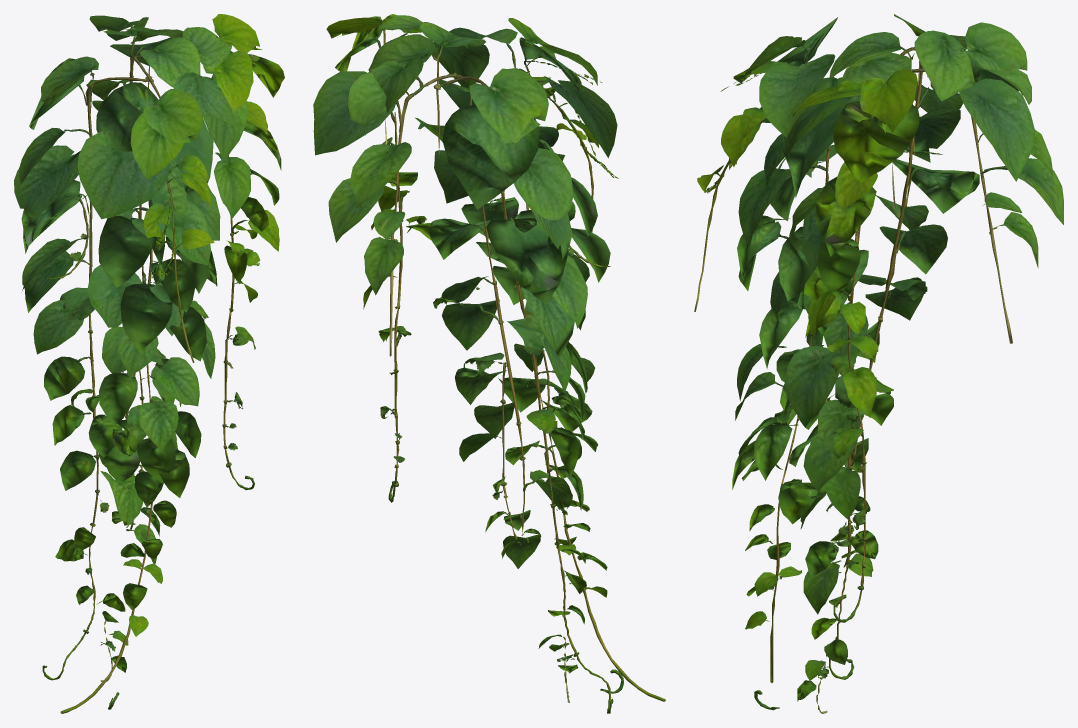
File: vine.glb
3 views of the same model, side by side, from view 1: azimuth 30°, elevation 25°; view 2: azimuth 150°, elevation 25°; view 3: azimuth 270°, elevation 25° (orthographic). The views are drawn at different scales.
Visible parts, largest first — view 1: Model; view 2: Model; view 3: Model.
Boxes of the visible parts, left/top/right/bottom form: Model: left=14, top=14, right=284, bottom=713; Model: left=313, top=14, right=665, bottom=713; Model: left=694, top=14, right=1063, bottom=713.
Size of the model in its own units: 0.4306 by 1 by 0.456.
1 material, 1 textured.
